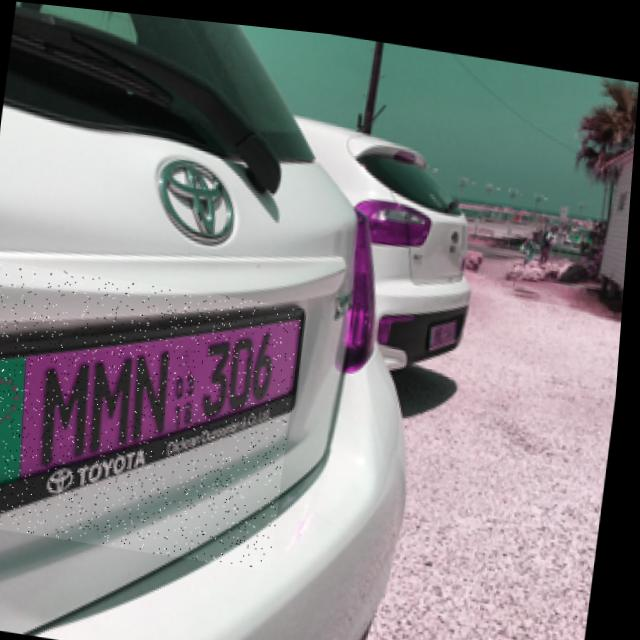license_plate: (0, 258, 308, 565)
